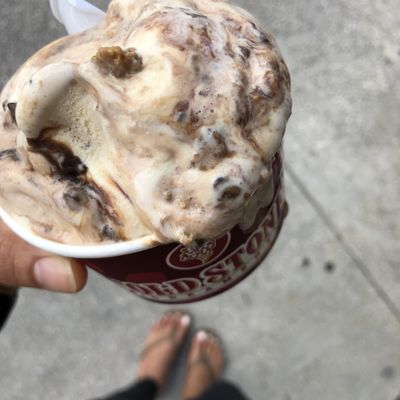sandwich: (1, 2, 291, 262)
